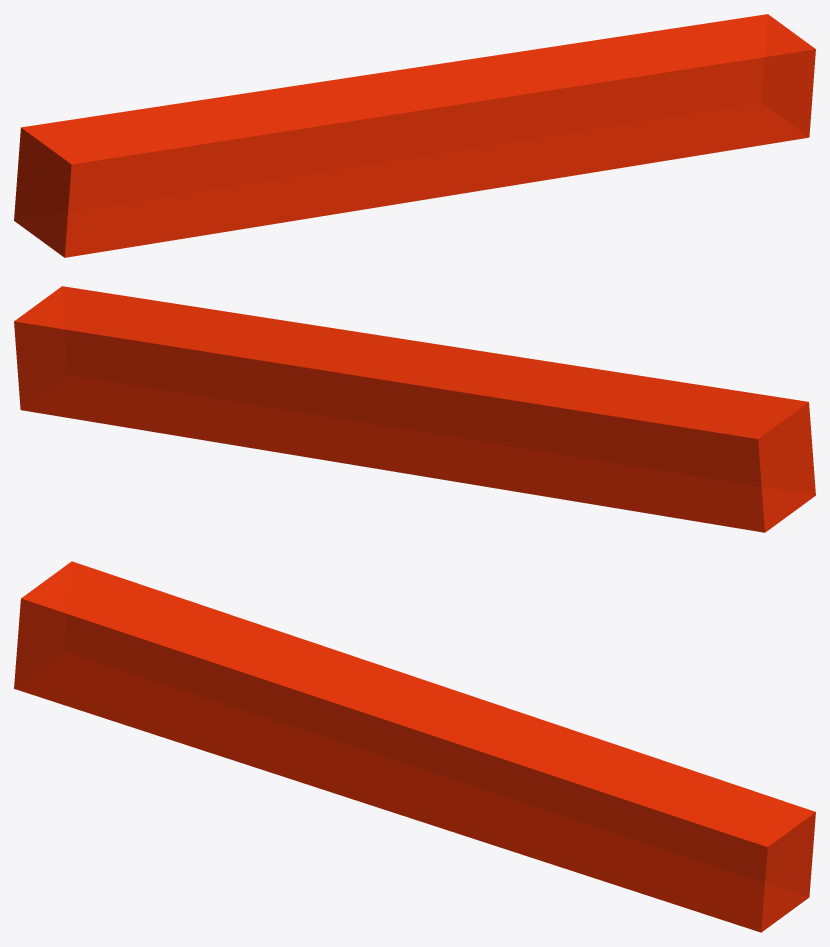
The model's file is Event_421115418_EErechit_9.fbx.
3 renders of one model, top to bottom at view 1: azimuth 30°, elevation 25°; view 2: azimuth 150°, elevation 25°; view 3: azimuth 330°, elevation 25°, orthographic.
Parts seen in each view (by area): view 1: Model; view 2: Model; view 3: Model.
Boxes of the visible parts, x1,y1,x2,y2 form: Model: (14, 14, 815, 257); Model: (14, 286, 815, 532); Model: (14, 561, 815, 932).
Size of the model in its own units: 0.6555 by 0.1276 by 0.0767.
